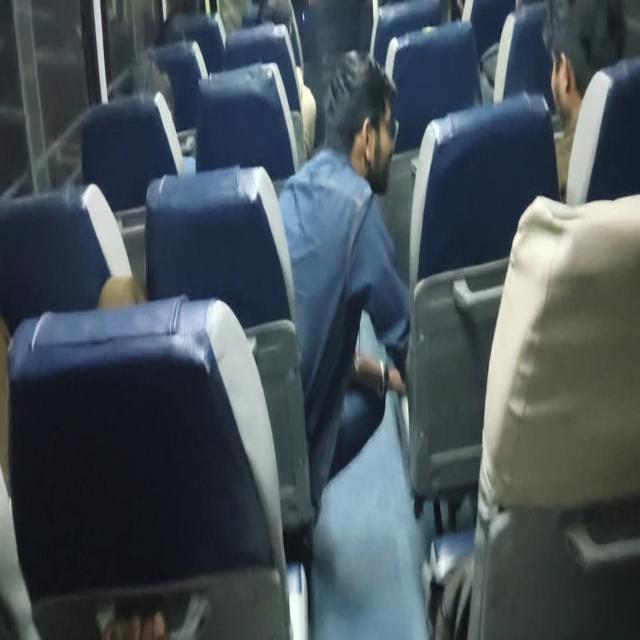person: (277, 47, 412, 508), (543, 0, 626, 200)
